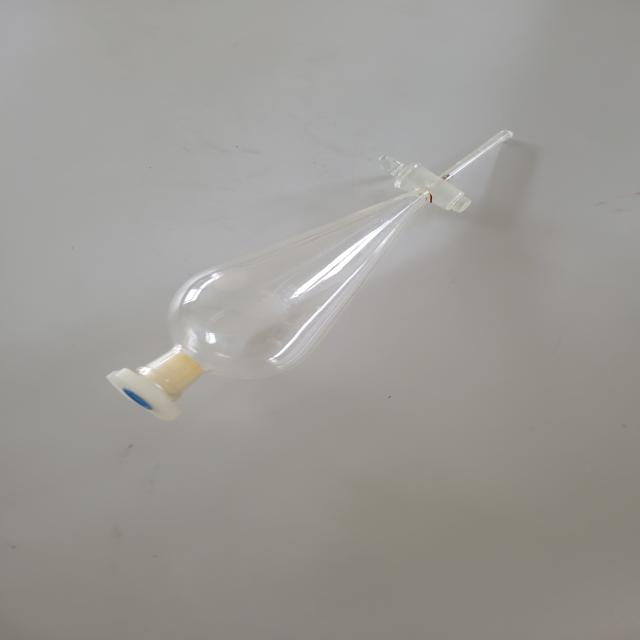Separating_Funnel: (75, 58, 538, 444)
